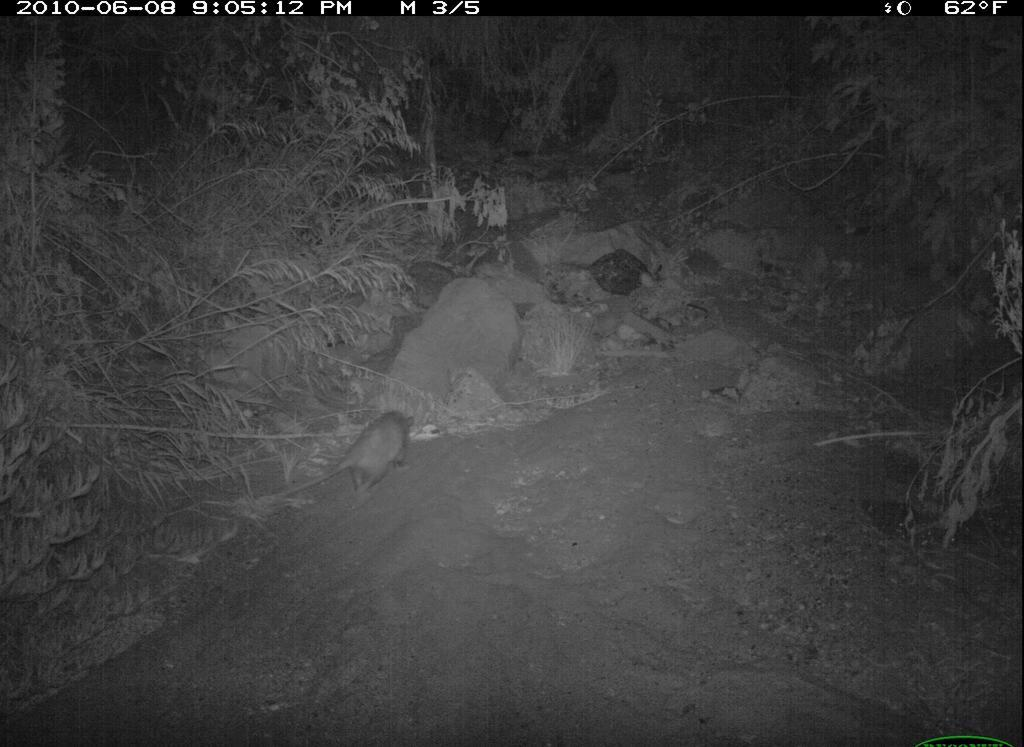opossum: (281, 401, 420, 510)
